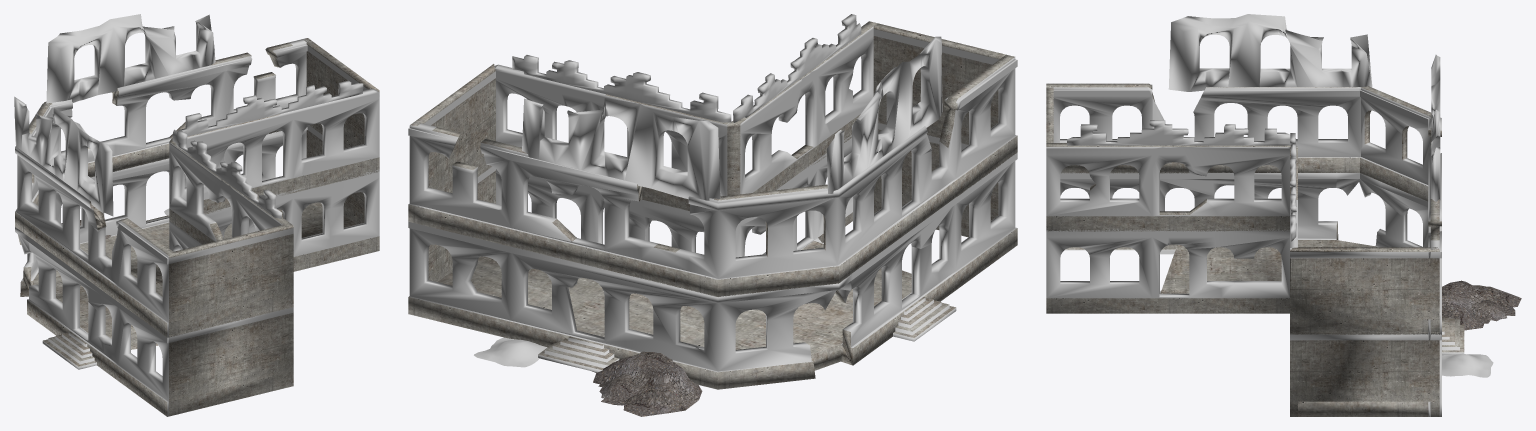
File: angleHouse2_LOD1.fbx
3 views of the same model, side by side, from view 1: azimuth 30°, elevation 25°; view 2: azimuth 150°, elevation 25°; view 3: azimuth 270°, elevation 25° (orthographic). The views are drawn at different scales.
Visible parts, largest first — view 1: angleHouse2_LOD1; view 2: angleHouse2_LOD1; view 3: angleHouse2_LOD1.
Boxes of the visible parts, x1,y1,x2,y2 form: angleHouse2_LOD1: (14, 14, 379, 416); angleHouse2_LOD1: (408, 14, 1017, 416); angleHouse2_LOD1: (1046, 14, 1521, 416).
Size of the model in its own units: 16.75 by 10.52 by 19.04.
